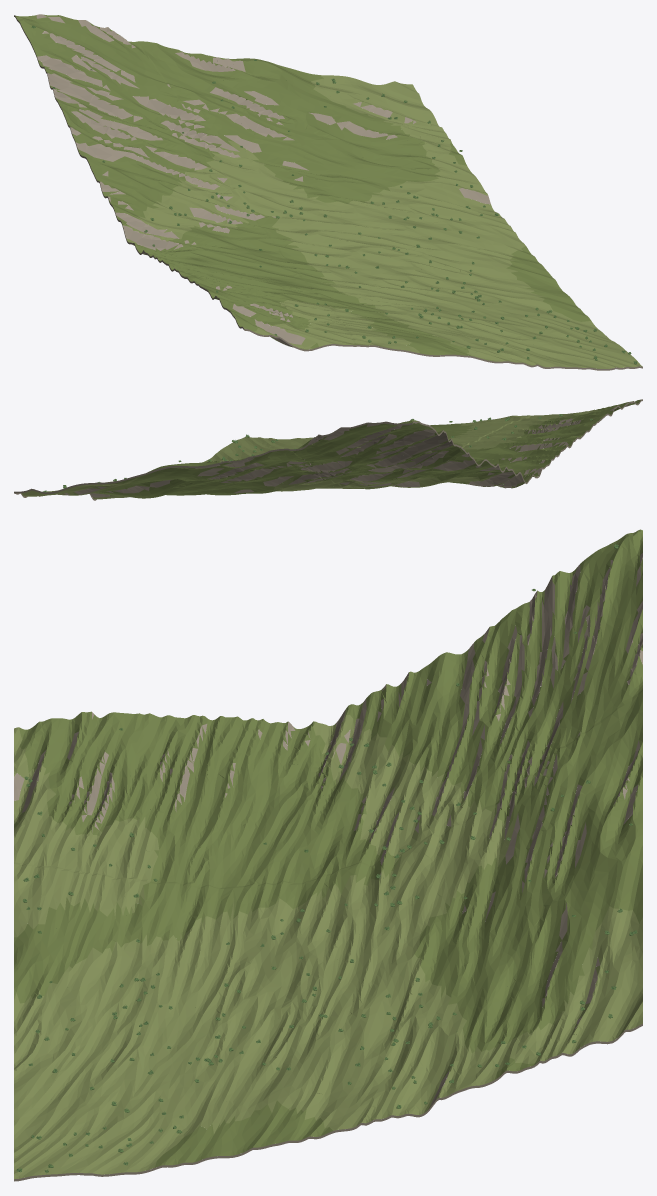
File: parca_+8_-6-yakin.glb
The picture shows the model from 3 angles, top to bottom: view 1: azimuth 30°, elevation 25°; view 2: azimuth 150°, elevation 25°; view 3: azimuth 270°, elevation 25°; orthographic projection. The views are drawn at different scales.
Parts seen in each view (by area): view 1: parca_+8_-6_arazi, parca_+8_-6_bitkiler; view 2: parca_+8_-6_arazi, parca_+8_-6_bitkiler; view 3: parca_+8_-6_arazi, parca_+8_-6_bitkiler.
Boxes of the visible parts, <box> form: parca_+8_-6_arazi: <box>14,14,642,370</box>; parca_+8_-6_bitkiler: <box>31,25,637,364</box>; parca_+8_-6_arazi: <box>14,399,642,500</box>; parca_+8_-6_bitkiler: <box>43,414,592,494</box>; parca_+8_-6_arazi: <box>14,529,642,1181</box>; parca_+8_-6_bitkiler: <box>16,537,637,1172</box>.
Size of the model in its own units: 1004 by 677 by 1000.
